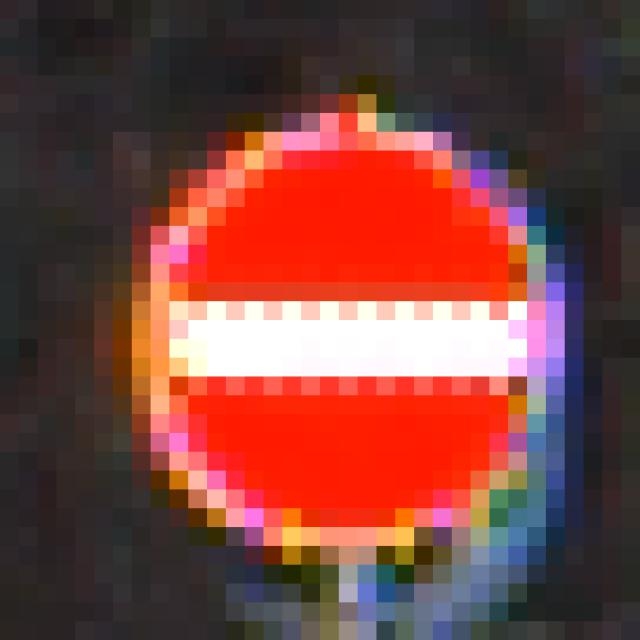No Entry: (114, 114, 547, 547)
